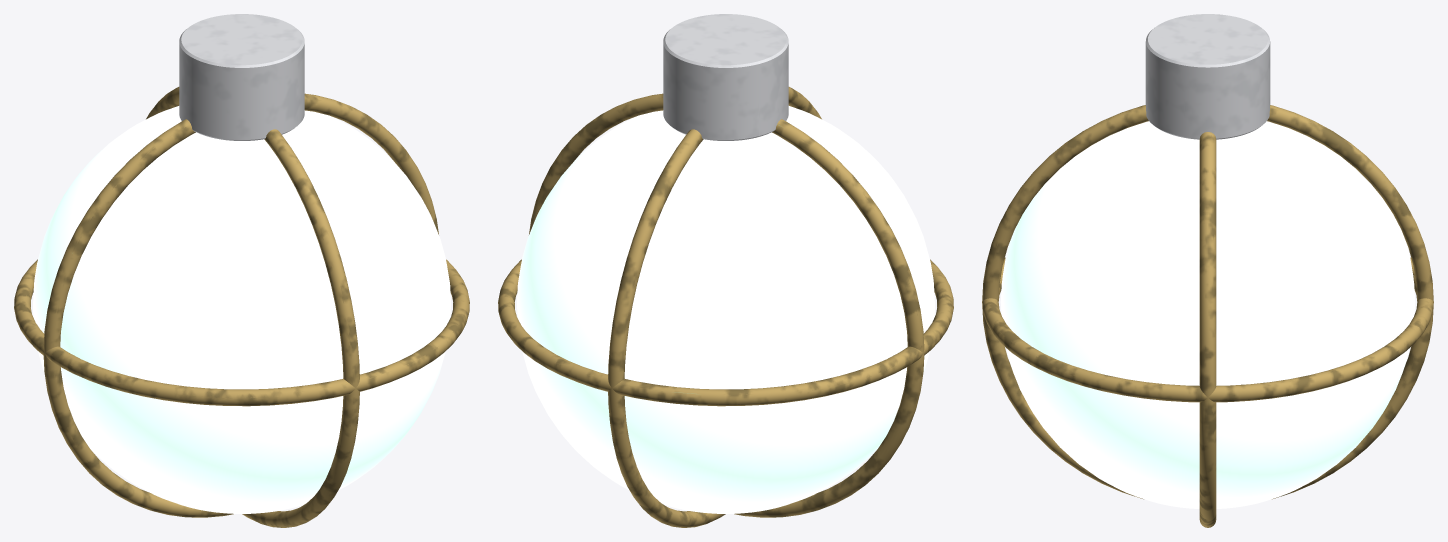
Rendered from colossus_core.glb.
The picture shows the model from 3 angles, left to right: view 1: azimuth 30°, elevation 25°; view 2: azimuth 150°, elevation 25°; view 3: azimuth 270°, elevation 25°; orthographic projection.
Visible parts, largest first — view 1: colossus_core; view 2: colossus_core; view 3: colossus_core.
Boxes of the visible parts, x1,y1,x2,y2 form: colossus_core: [14, 14, 469, 527]; colossus_core: [498, 14, 953, 527]; colossus_core: [982, 14, 1433, 527].
Bounding box in the file's own units: 2.18 × 2.49 × 2.18.
Materials: 3 (2 with a texture image).
